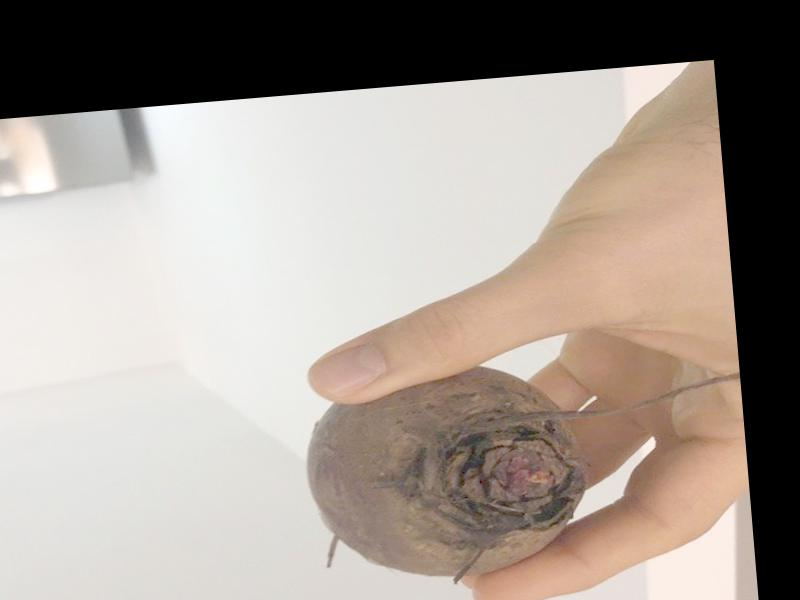Beet: (296, 341, 752, 596)
